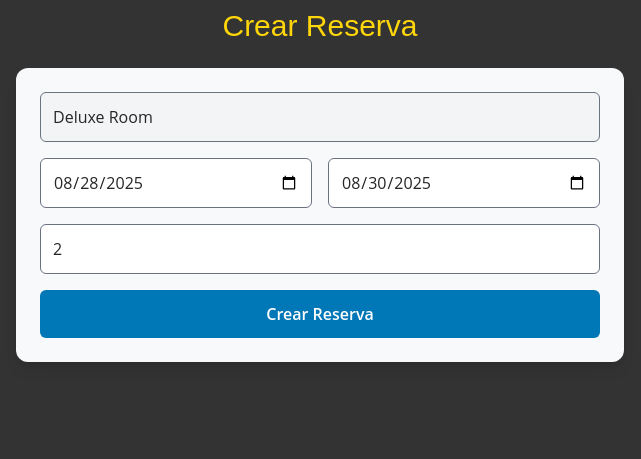
Scenario: ReservationPage › 6. shows error if reservationService.createReservation fails
Click the button "Crear Reserva": (320, 314) [40,290,600,338]
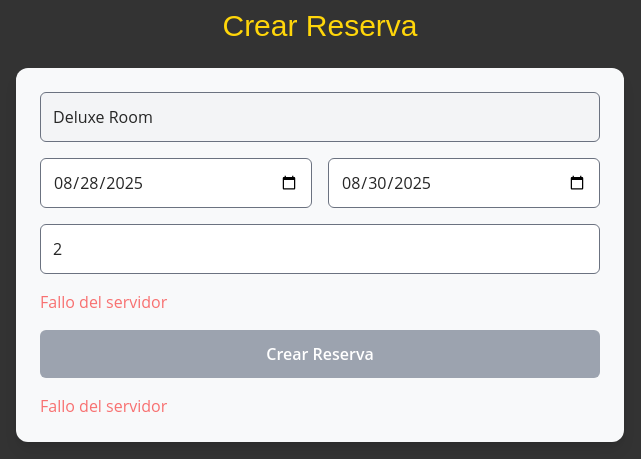
Now the message reads "Fallo del servidor", box [40,395,167,417]
